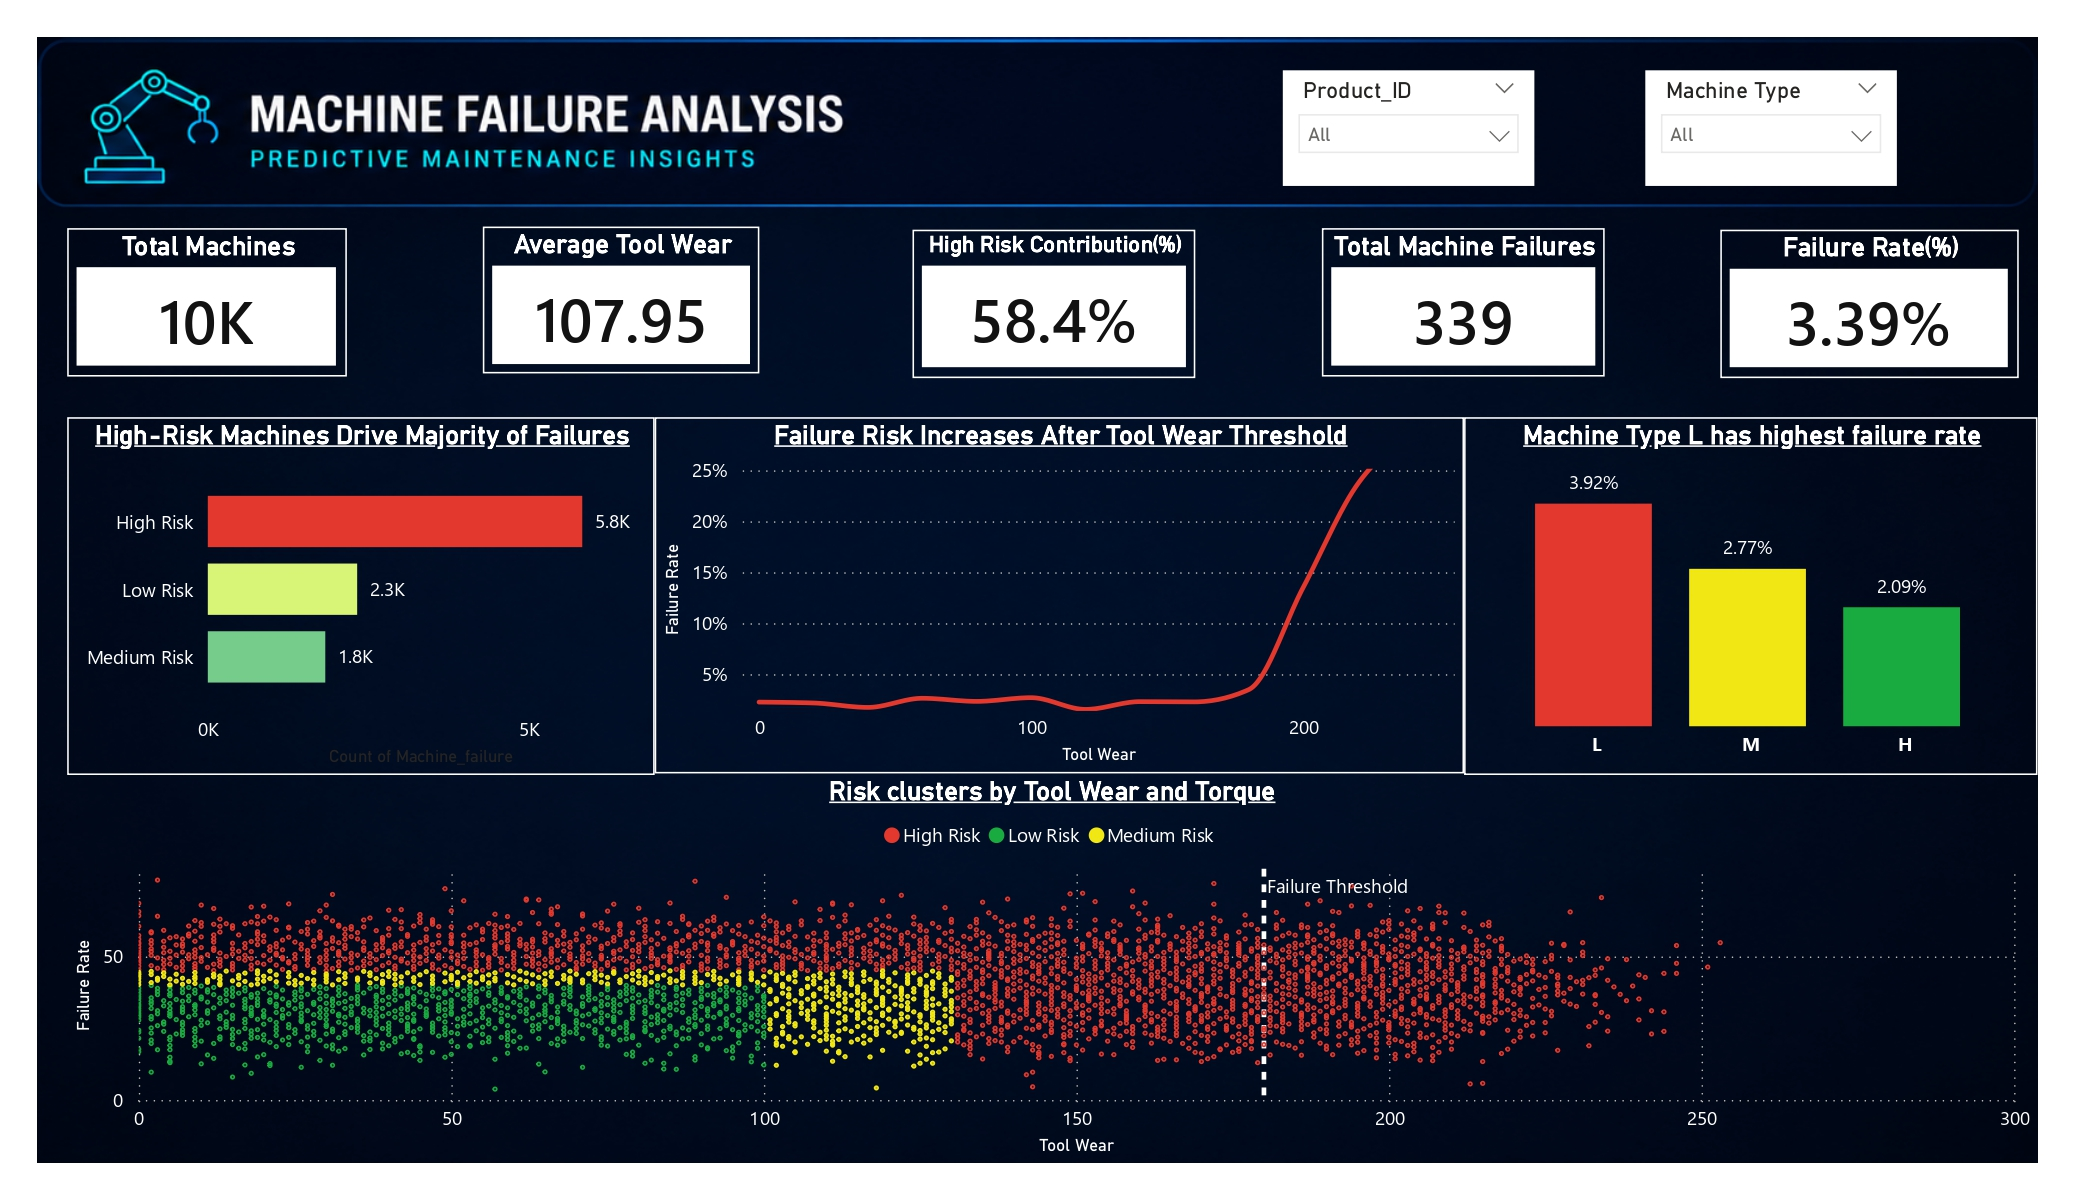

This screenshot's page, from the dashboard's own definition file:
{"tool":"powerbi","page":{"name":"Overview","canvas":[1280,720],"ordinal":0},"visuals":[{"type":"slicer","fields":{"Values":["Machine_Data.Type"]},"box":[1029.2,20.6,160.5,74.1],"z":0},{"type":"slicer","fields":{"Values":["Machine_Data.Product_ID"]},"box":[797.3,20.6,160.5,74.1],"z":1000},{"type":"cardVisual","title":"Total Machines","fields":{"Data":["Count(Machine_Data.Product_ID)"]},"box":[19.2,122.1,178.4,94.7],"z":2000},{"type":"cardVisual","title":"Average Tool Wear","fields":{"Data":["Avg(Machine_Data.Tool_wear_min)"]},"box":[285.4,120.8,177,94.7],"z":3000},{"type":"cardVisual","title":"Total Machine Failures","fields":{"Data":["Sum(Machine_Data.Machine_failure)"]},"box":[822,122.1,181.1,94.7],"z":4000},{"type":"cardVisual","title":"Failure Rate(%)","fields":{"Data":["Machine_Data.Failure Rate(%)"]},"box":[1077.2,123.5,190.7,94.7],"z":5000},{"type":"clusteredColumnChart","title":"Machine Type L has highest failure rate","fields":{"Category":["Machine_Data.Type"],"Y":["Machine_Data.Failure Rate(%)"]},"box":[912.5,242.9,367.8,229.2],"z":6000},{"type":"lineChart","title":"Failure Risk Increases After Tool Wear Threshold","fields":{"Y":["Machine_Data.Failure Rate(%)"],"Category":["Machine_Data.Tool_wear_min (bins)"]},"box":[395.2,242.9,517.3,227.8],"z":7000},{"type":"scatterChart","title":"Risk clusters by Tool Wear and Torque","fields":{"X":["Machine_Data.Tool_wear_min"],"Y":["Machine_Data.Torque_Nm"],"Series":["Risk_level_view.Risk_level"]},"box":[19.2,472,1261.1,248.4],"z":8000},{"type":"barChart","title":"High-Risk Machines Drive Majority of Failures","fields":{"Category":["Risk_level_view.Risk_level"],"Y":["CountNonNull(Machine_Data.Machine_failure)"]},"box":[19.2,242.9,376,229.2],"z":9000},{"type":"cardVisual","title":"High Risk Contribution(%)","fields":{"Data":["Machine_Data.Check %"]},"box":[559.9,123.5,181.1,94.7],"z":10000}]}

Visuals, with their boxes on the page's 1280x720 design canvas (x1, y1, x2, y2). These are canvas units, not pixel positions in the 2075x1200 screenshot, which may show the page scaled, cropped or inside an application window:
slicer - Machine_Data.Type: (left=1029, top=21, right=1190, bottom=95)
slicer - Machine_Data.Product_ID: (left=797, top=21, right=958, bottom=95)
"Total Machines" cardVisual: (left=19, top=122, right=198, bottom=217)
"Average Tool Wear" cardVisual: (left=285, top=121, right=462, bottom=216)
"Total Machine Failures" cardVisual: (left=822, top=122, right=1003, bottom=217)
"Failure Rate(%)" cardVisual: (left=1077, top=124, right=1268, bottom=218)
"Machine Type L has highest failure rate" clusteredColumnChart: (left=912, top=243, right=1280, bottom=472)
"Failure Risk Increases After Tool Wear Threshold" lineChart: (left=395, top=243, right=912, bottom=471)
"Risk clusters by Tool Wear and Torque" scatterChart: (left=19, top=472, right=1280, bottom=720)
"High-Risk Machines Drive Majority of Failures" barChart: (left=19, top=243, right=395, bottom=472)
"High Risk Contribution(%)" cardVisual: (left=560, top=124, right=741, bottom=218)
